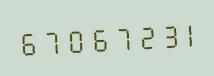one: (171, 16, 192, 51)
seven: (39, 23, 60, 58), (105, 20, 126, 54)
six: (17, 24, 38, 59), (83, 21, 104, 56)
three: (149, 17, 170, 52)
two: (127, 18, 148, 53)
zero: (61, 22, 82, 57)
